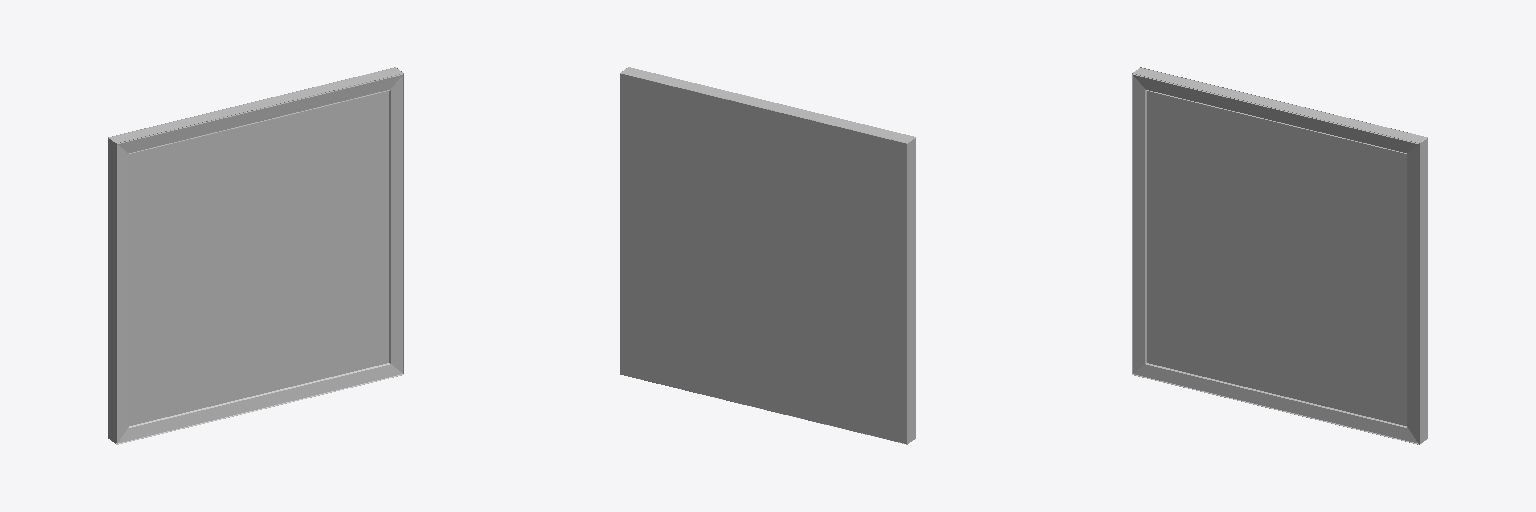
Rendered from canvas.obj.
3 views of the same model, side by side, from view 1: azimuth 30°, elevation 25°; view 2: azimuth 150°, elevation 25°; view 3: azimuth 330°, elevation 25° (orthographic).
Visible parts, largest first — view 1: Plane; view 2: Plane; view 3: Plane.
Part boxes in pixels (bbox=[...]): Plane: bbox=[108, 67, 403, 444]; Plane: bbox=[620, 67, 915, 444]; Plane: bbox=[1132, 67, 1427, 444].
Bounding box in the file's own units: 2 × 2 × 0.1042.